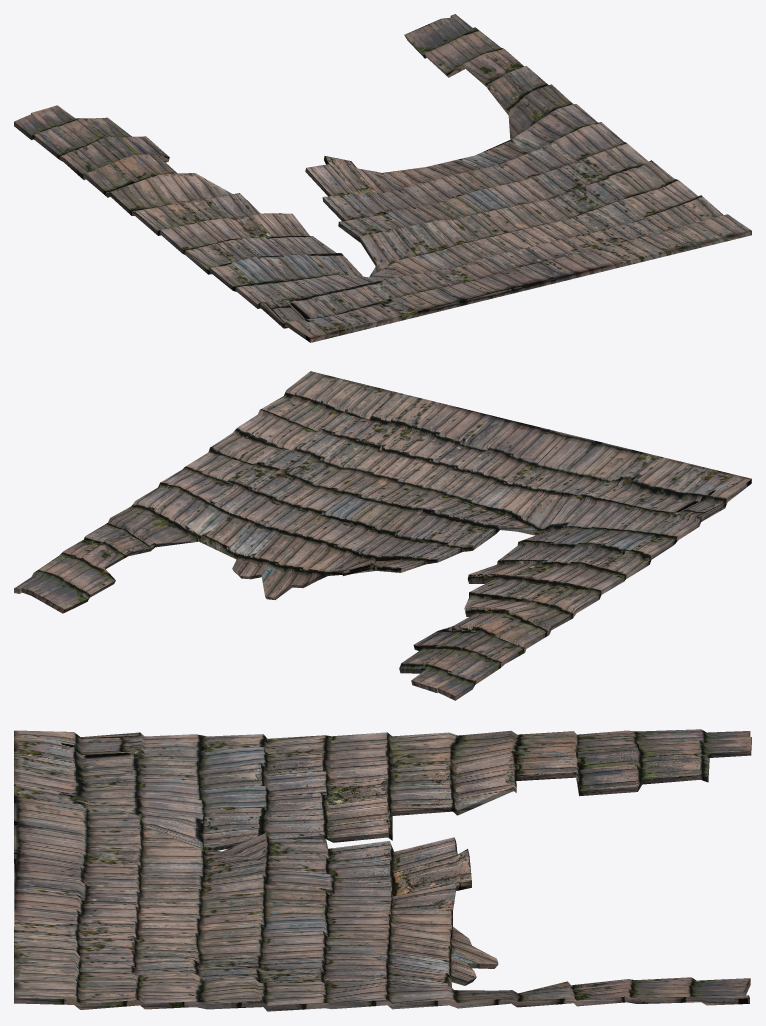
The model's file is SM_OldCeramicRoofTiles_01_09.fbx.
The picture shows the model from 3 angles, top to bottom: view 1: azimuth 30°, elevation 25°; view 2: azimuth 150°, elevation 25°; view 3: azimuth 270°, elevation 25°; orthographic projection. The views are drawn at different scales.
Parts seen in each view (by area): view 1: sm_OldCeramicRoofTiles_01_09_LOD0; view 2: sm_OldCeramicRoofTiles_01_09_LOD0; view 3: sm_OldCeramicRoofTiles_01_09_LOD0.
Boxes of the visible parts, x1,y1,x2,y2 form: sm_OldCeramicRoofTiles_01_09_LOD0: (14, 14, 751, 342); sm_OldCeramicRoofTiles_01_09_LOD0: (14, 371, 751, 700); sm_OldCeramicRoofTiles_01_09_LOD0: (14, 729, 751, 1011).
Size of the model in its own units: 700 by 600 by 72.83.
